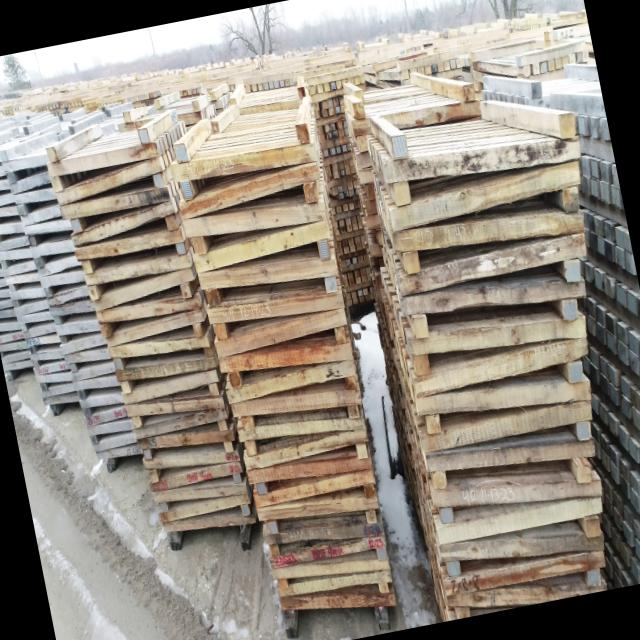stack: (160, 83, 415, 640)
